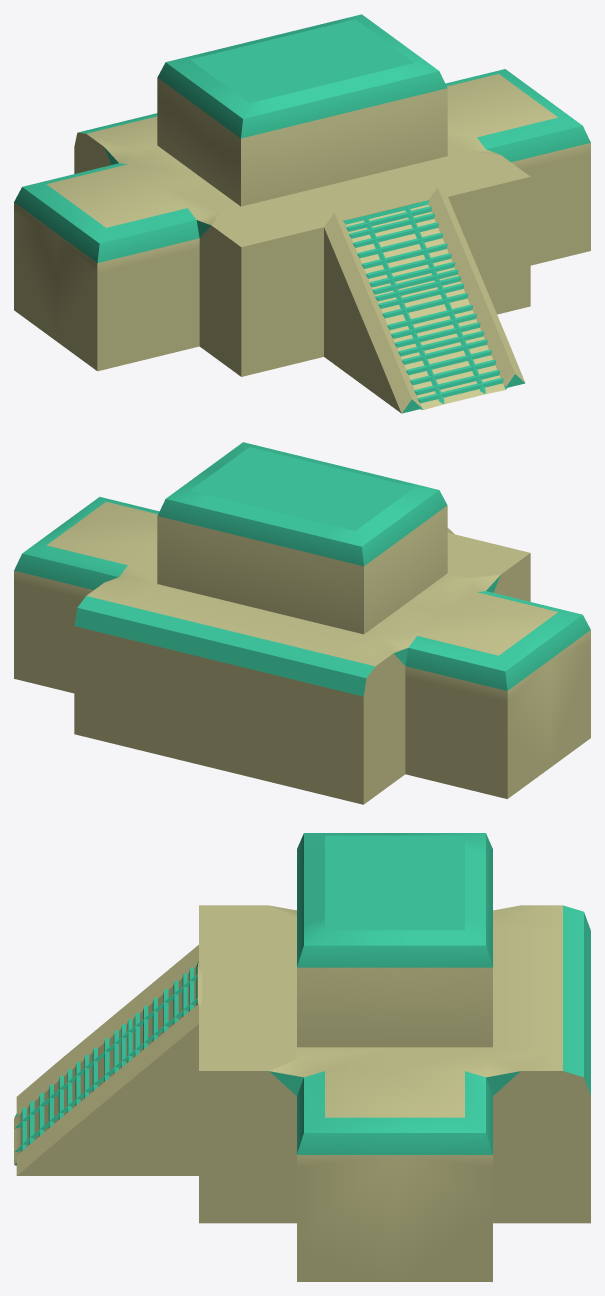
Rendered from Temple 4.fbx.
3 renders of one model, top to bottom at view 1: azimuth 30°, elevation 25°; view 2: azimuth 150°, elevation 25°; view 3: azimuth 270°, elevation 25°, orthographic. The views are drawn at different scales.
Visible parts, largest first — view 1: Temple 4; view 2: Temple 4; view 3: Temple 4.
Part boxes in pixels (<box>): Temple 4: <box>14,14,590,413</box>; Temple 4: <box>14,442,590,804</box>; Temple 4: <box>14,833,590,1281</box>.
Size of the model in its own units: 119 by 50.91 by 103.
3 materials, 2 textured.
